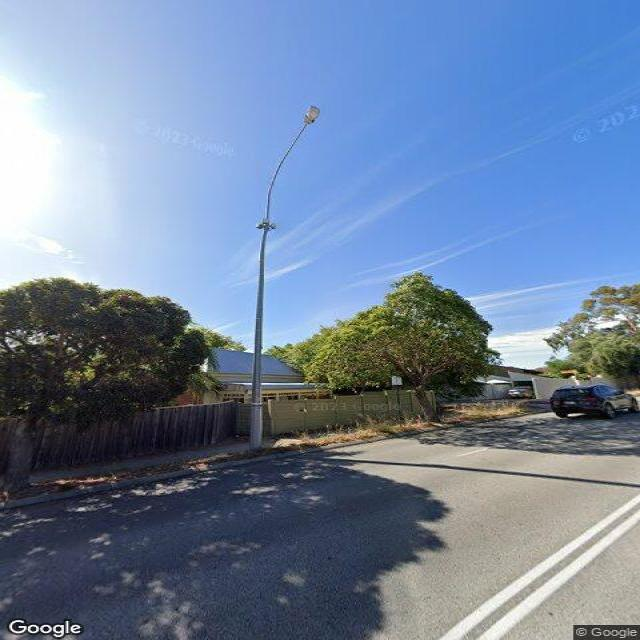steel-pole: (248, 196, 272, 451)
streetlight: (268, 104, 322, 198)
